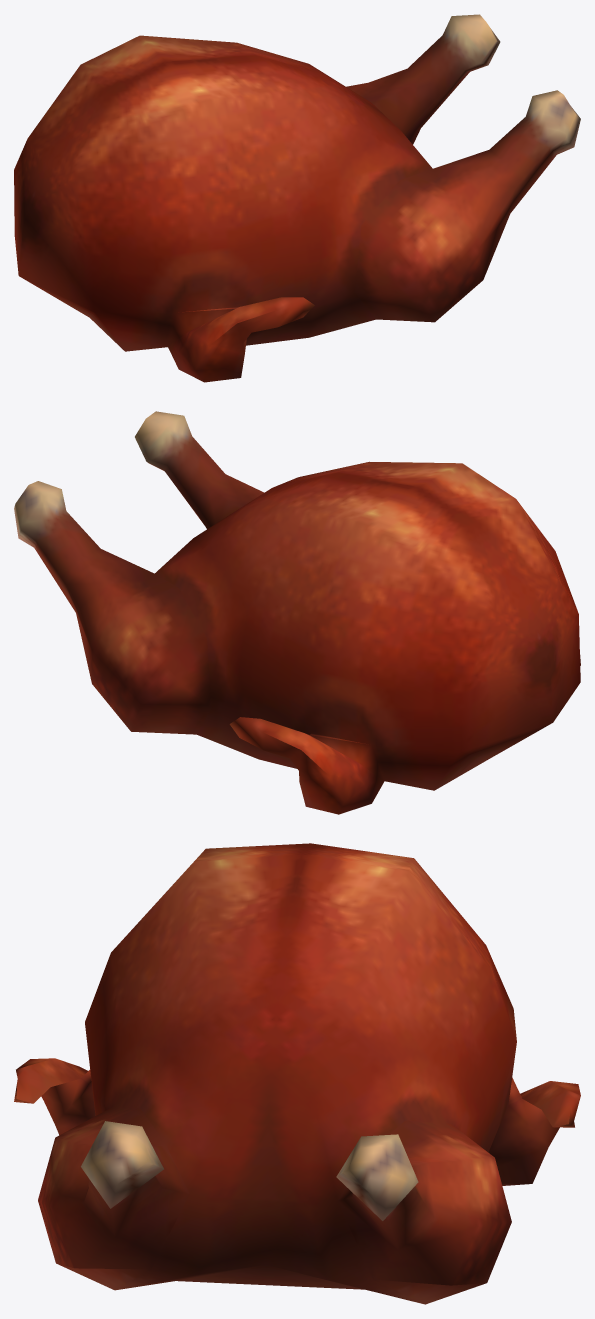
File: Turkey.fbx
3 views of the same model, one above another, from view 1: azimuth 30°, elevation 25°; view 2: azimuth 150°, elevation 25°; view 3: azimuth 270°, elevation 25° (orthographic). The views are drawn at different scales.
Visible parts, largest first — view 1: Turkey; view 2: Turkey; view 3: Turkey.
Part boxes in pixels (left/top/right/bottom): Turkey: left=14, top=14, right=580, bottom=382; Turkey: left=14, top=411, right=580, bottom=814; Turkey: left=14, top=843, right=580, bottom=1304.
Bounding box in the file's own units: 0.6506 × 0.3277 × 0.4943.
1 material, 1 textured.
